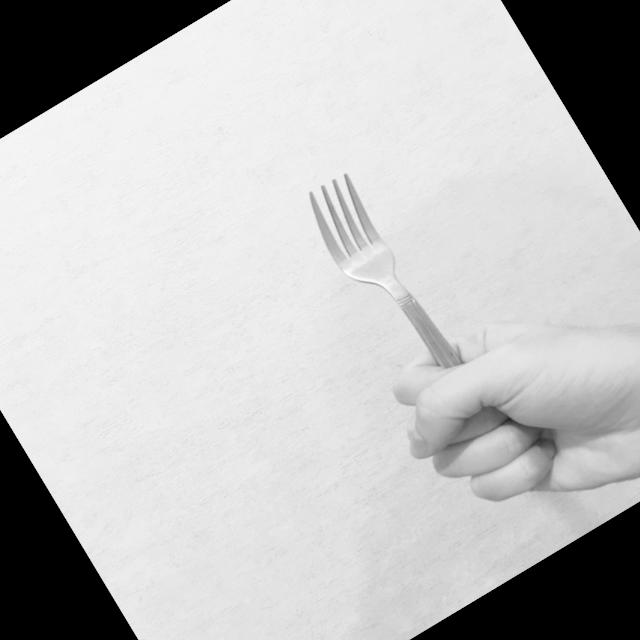fork: (291, 160, 524, 486)
